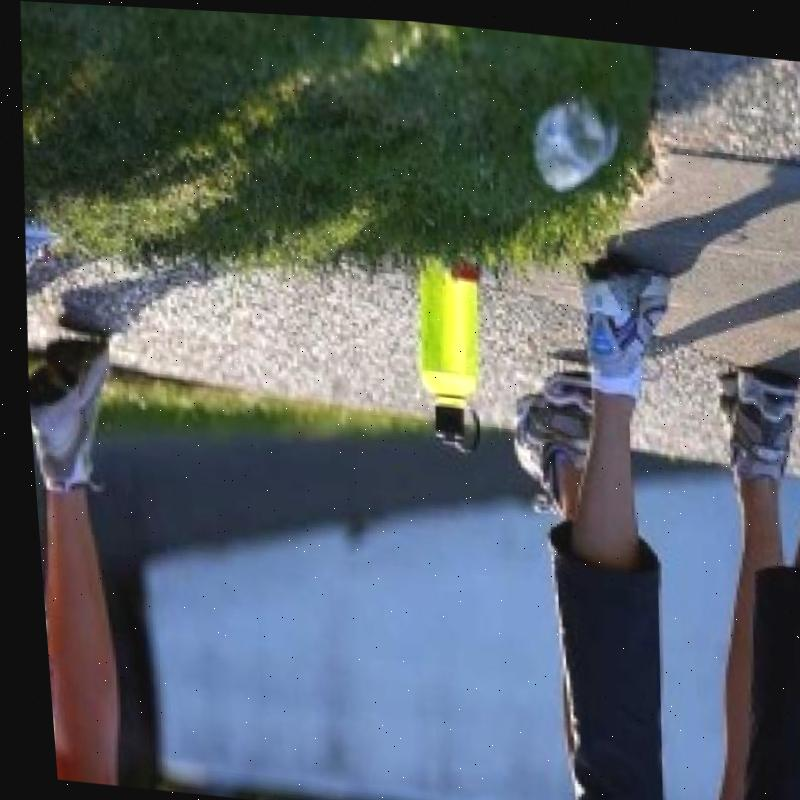botella: (518, 92, 628, 190)
